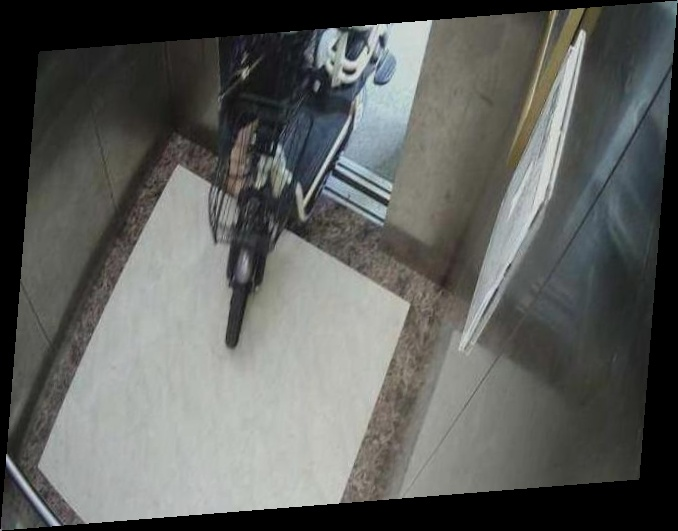electromobile: (205, 31, 402, 353)
